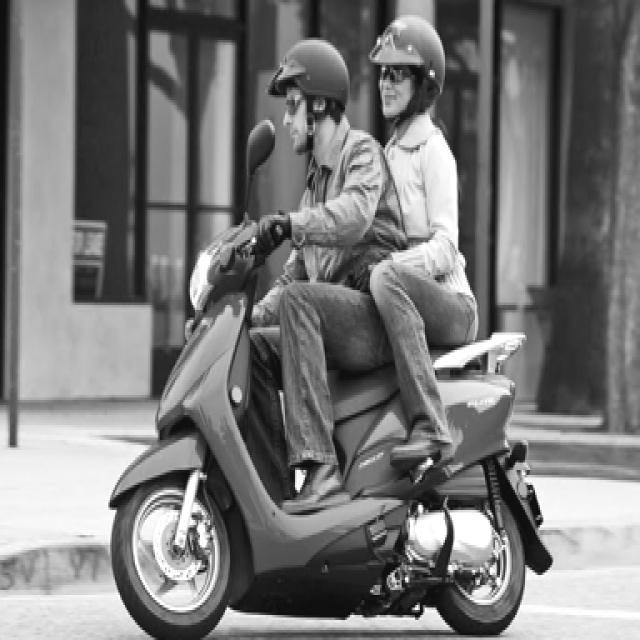Helmet: (262, 22, 354, 158)
